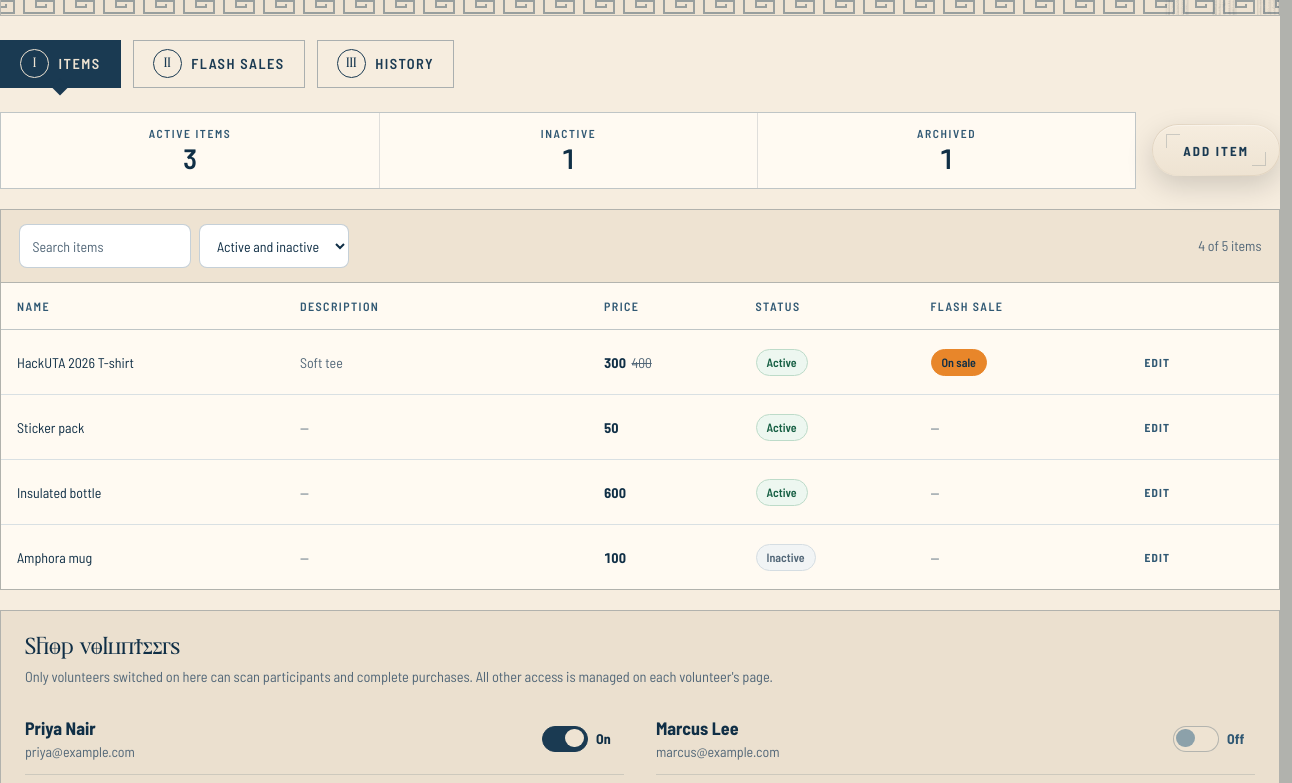
Test: Items tab › turns shop access on and off for volunteers
(page scrolled)
Click the switch labelled "Off" at (1214, 739), box [1173, 717, 1255, 761]
(page scrolled)
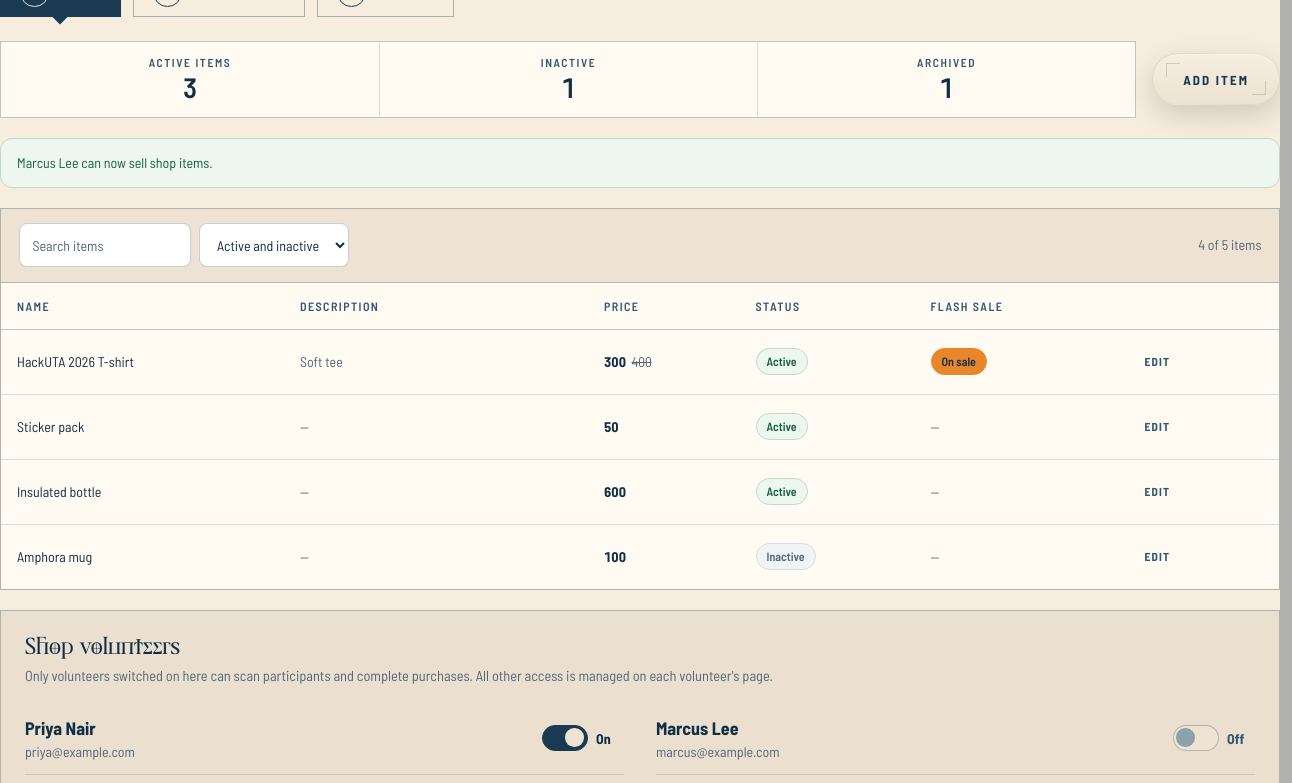
Check: the text "Marcus Lee can now sell shop items." is shown, box [0, 138, 1280, 188]
Click the switch labelled "On" at (583, 738), box [542, 716, 624, 760]
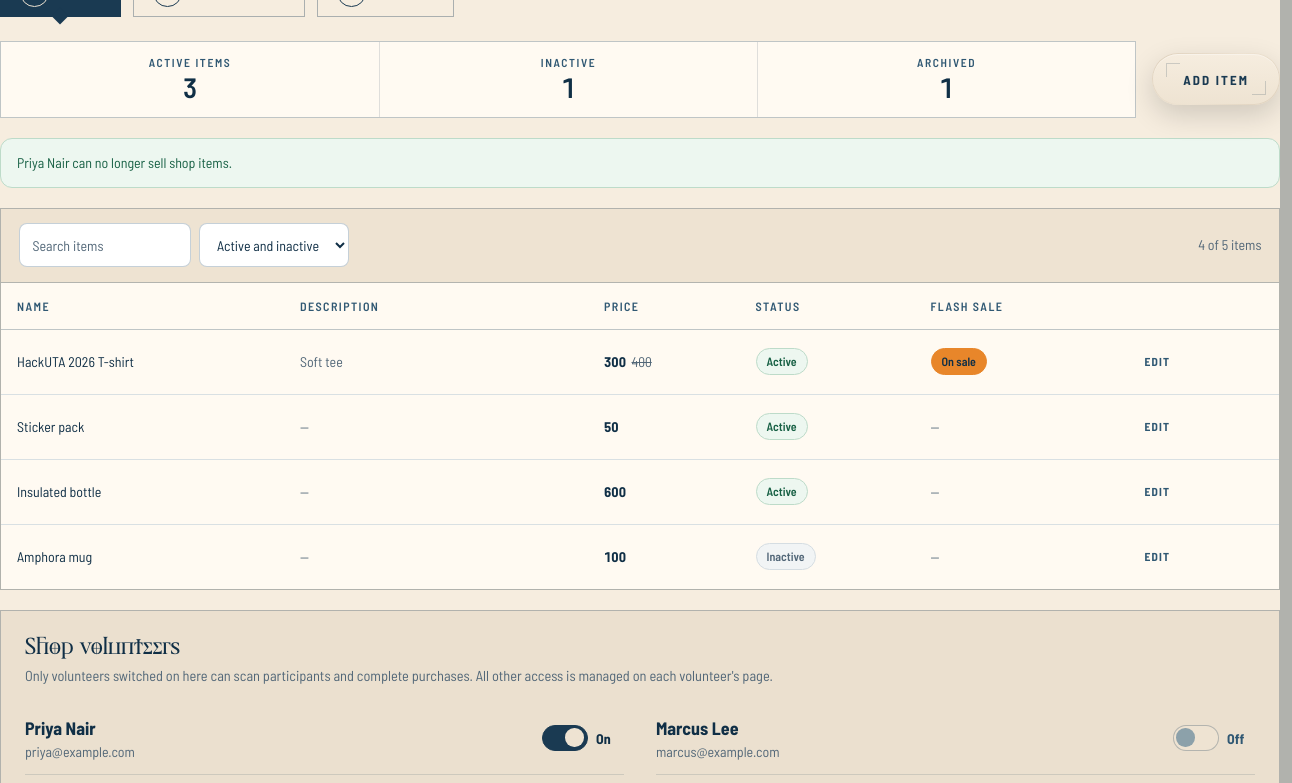
Check: the text "Priya Nair can no longer sell shop items." is shown, box [0, 138, 1280, 188]
Click the switch labelled "On" at (583, 738), box [542, 716, 624, 760]
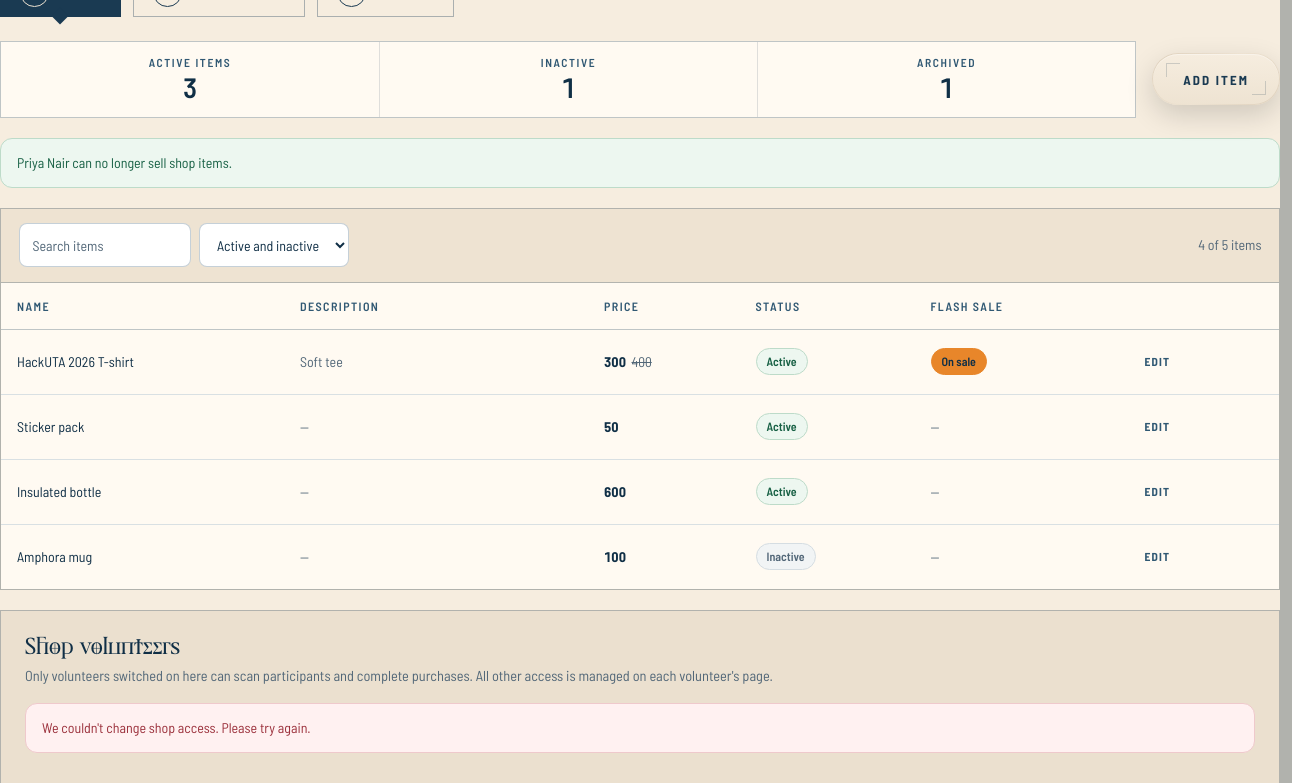
Check: the text "We couldn't change shop access." is shown, box [42, 719, 310, 736]
